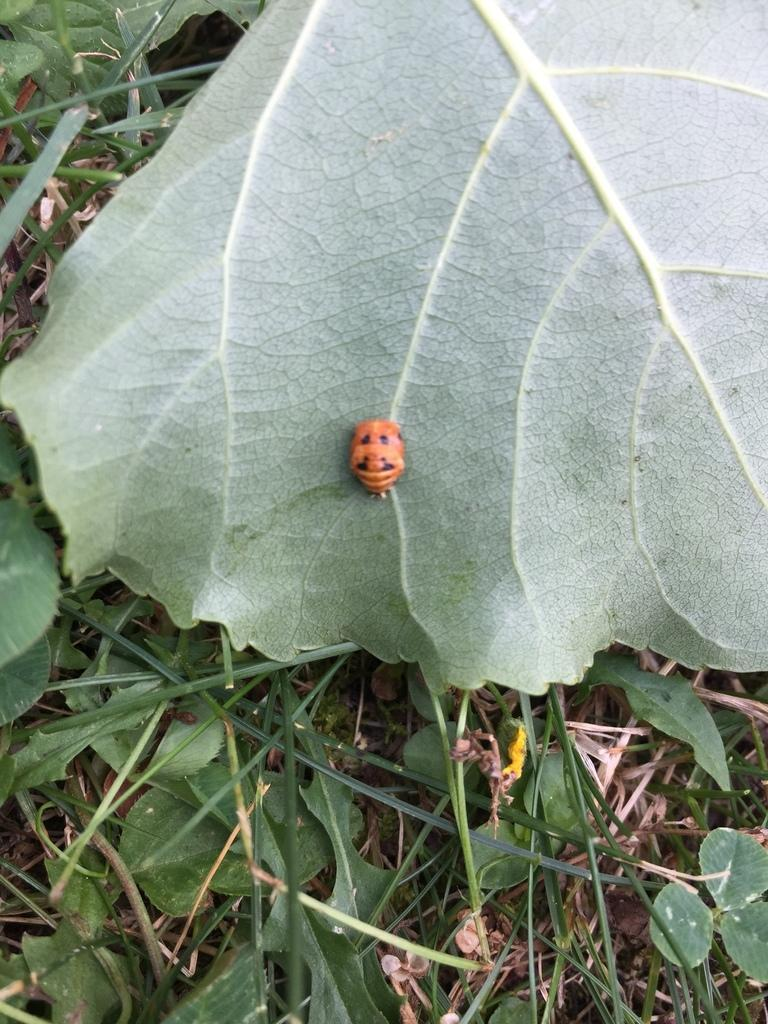ladybug: (345, 417, 410, 503)
